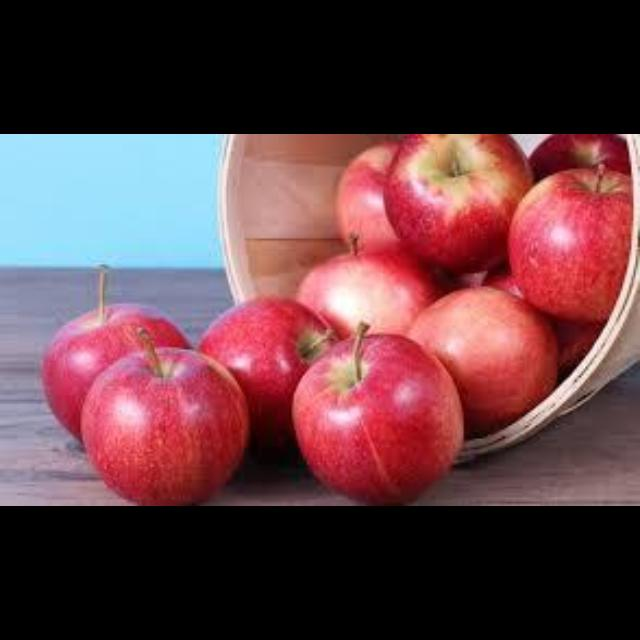apple: (294, 323, 461, 502), (81, 328, 246, 504), (41, 265, 187, 441), (407, 286, 557, 437), (198, 297, 335, 461), (383, 134, 531, 271), (509, 169, 631, 319), (296, 232, 444, 336), (335, 141, 398, 247), (529, 134, 629, 178), (549, 317, 601, 371), (483, 269, 520, 295), (455, 271, 485, 286)
